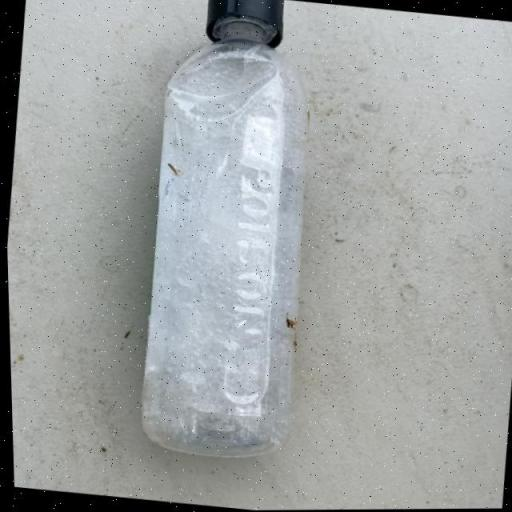plastic: (122, 0, 334, 466)
